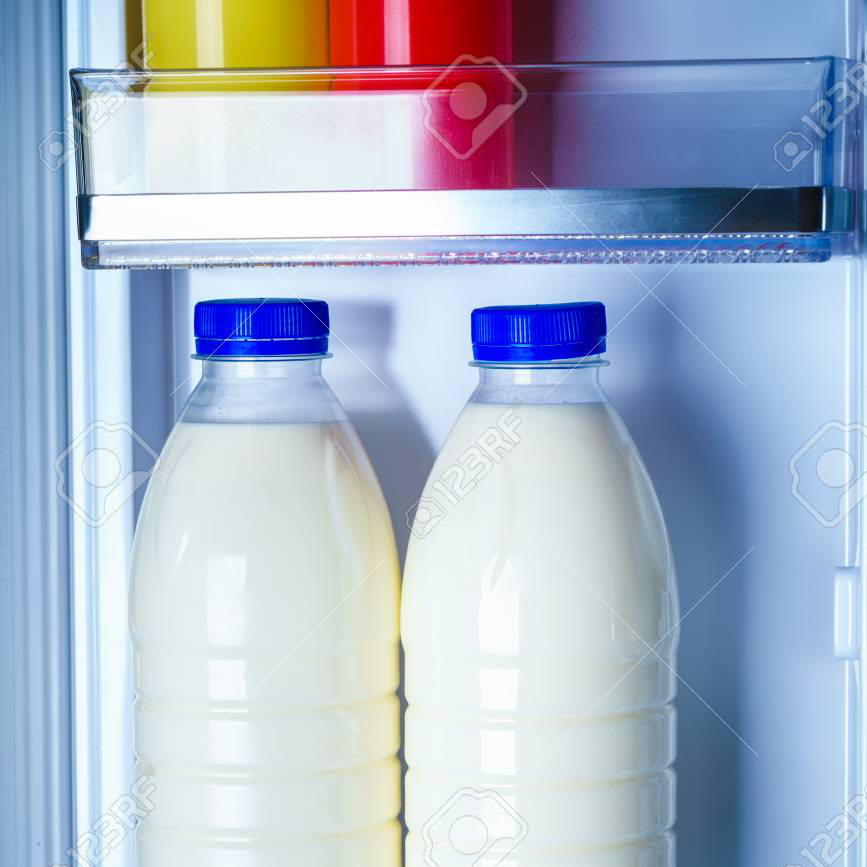milk: (125, 297, 678, 867)
